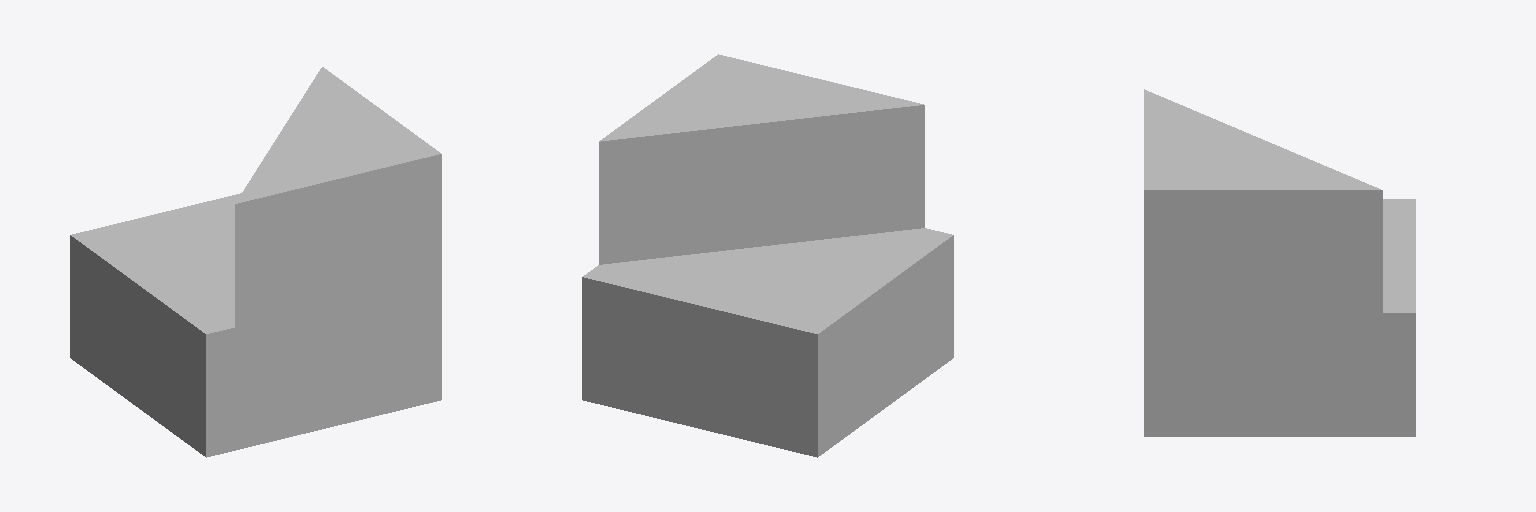
File: spirdiag.obj
The picture shows the model from 3 angles: view 1: azimuth 30°, elevation 25°; view 2: azimuth 150°, elevation 25°; view 3: azimuth 270°, elevation 25°; orthographic projection.
Size of the model in its own units: 1 by 1 by 1.